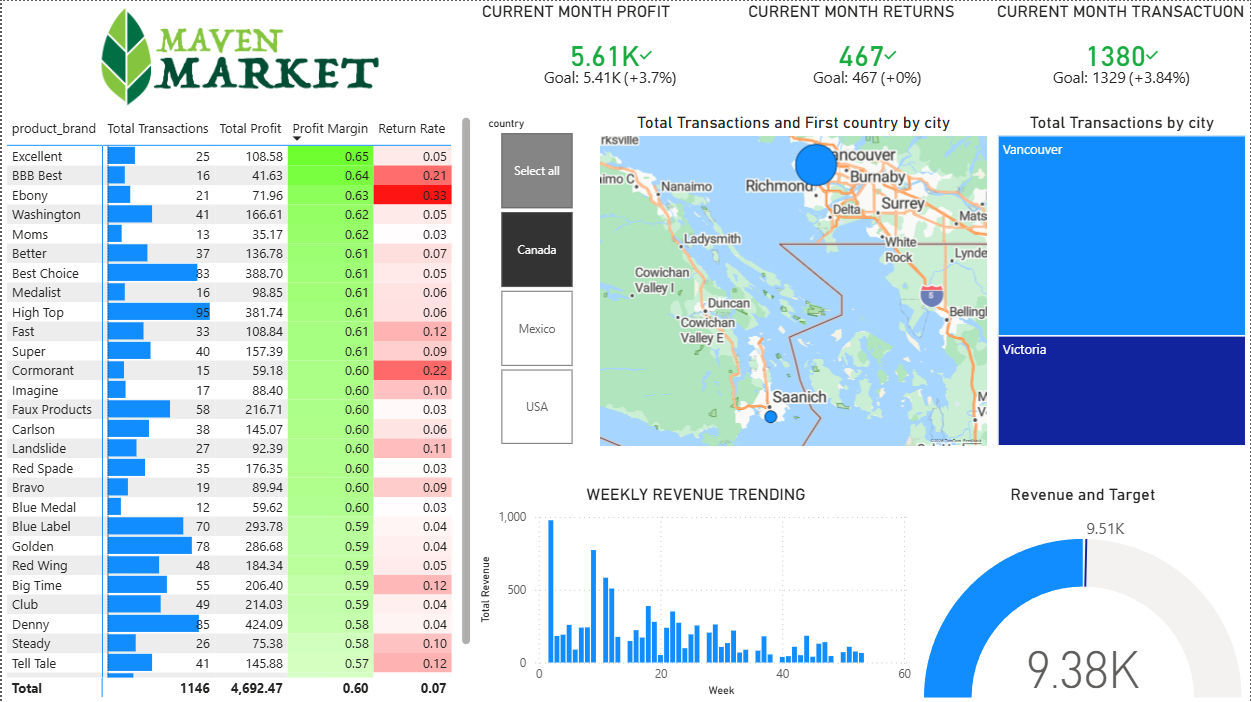

What the dashboard file says about the page in this screenshot:
{"tool":"powerbi","page":{"name":"Page 1","canvas":[1280,720],"ordinal":0},"visuals":[{"type":"pivotTable","fields":{"Values":["_measuers.Total Transactions","_measuers.Total Profit","_measuers.Profit Margin","_measuers.Return Rate"],"Rows":["Products.product_brand"]},"box":[0,113.7,485.5,605.3],"z":0},{"type":"kpi","title":"CURRENT MONTH TRANSACTUON","fields":{"Indicator":["_measuers.Total Transactions"],"TrendLine":["Calendar.Start of Month"],"Goal":["_measuers.Last Month Transactions"]},"box":[1015,0,265.4,113.7],"z":1000},{"type":"kpi","title":"CURRENT MONTH RETURNS","fields":{"TrendLine":["Calendar.Start of Month"],"Indicator":["_measuers.Total Returns"],"Goal":["_measuers.Last Month Returns"]},"box":[760.6,0,254.3,113.7],"z":2000},{"type":"kpi","title":"CURRENT MONTH PROFIT","fields":{"TrendLine":["Calendar.Start of Month"],"Indicator":["_measuers.Total Profit"],"Goal":["_measuers.Last Month Profit"]},"box":[487.1,0,273.1,113.9],"z":3000},{"type":"azureMap","fields":{"Category":["Stores.city"],"Size":["_measuers.Total Transactions"]},"box":[609,113.7,406,347.3],"z":4000},{"type":"slicer","fields":{"Values":["Stores.country"]},"box":[485.5,113.7,123.5,347.3],"z":5000},{"type":"treemap","fields":{"Values":["_measuers.Total Transactions"],"Group":["Stores.country","Stores.state","Stores.city"]},"box":[1016.2,113.7,264.1,347.3],"z":6000},{"type":"clusteredColumnChart","title":"WEEKLY REVENUE TRENDING","fields":{"Y":["_measuers.Total Revenue"],"Category":["Calendar.Week"]},"box":[485.8,496.7,451.5,222.3],"z":7000},{"type":"gauge","title":"Revenue and  Target","fields":{"Y":["_measuers.Total Revenue"],"TargetValue":["_measuers.Revenue Target"]},"box":[937.2,496.7,343.1,223.7],"z":8000},{"type":"image","box":[0,0,485.5,113.7],"z":9000}]}

Visuals, with their boxes in screenshot pixels (x1, y1, x2, y2), scaled from the page's 1280x720 canvas onto the 1251x702 screenshot:
pivotTable - _measuers.Total Transactions x _measuers.Total Profit: [x1=0, y1=111, x2=475, y2=701]
"CURRENT MONTH TRANSACTUON" kpi: [x1=992, y1=0, x2=1250, y2=111]
"CURRENT MONTH RETURNS" kpi: [x1=743, y1=0, x2=992, y2=111]
"CURRENT MONTH PROFIT" kpi: [x1=476, y1=0, x2=743, y2=111]
azureMap - Stores.city x _measuers.Total Transactions: [x1=595, y1=111, x2=992, y2=449]
slicer - Stores.country: [x1=475, y1=111, x2=595, y2=449]
treemap - _measuers.Total Transactions x Stores.country: [x1=993, y1=111, x2=1250, y2=449]
"WEEKLY REVENUE TRENDING" clusteredColumnChart: [x1=475, y1=484, x2=916, y2=701]
"Revenue and  Target" gauge: [x1=916, y1=484, x2=1250, y2=701]
image: [x1=0, y1=0, x2=475, y2=111]
